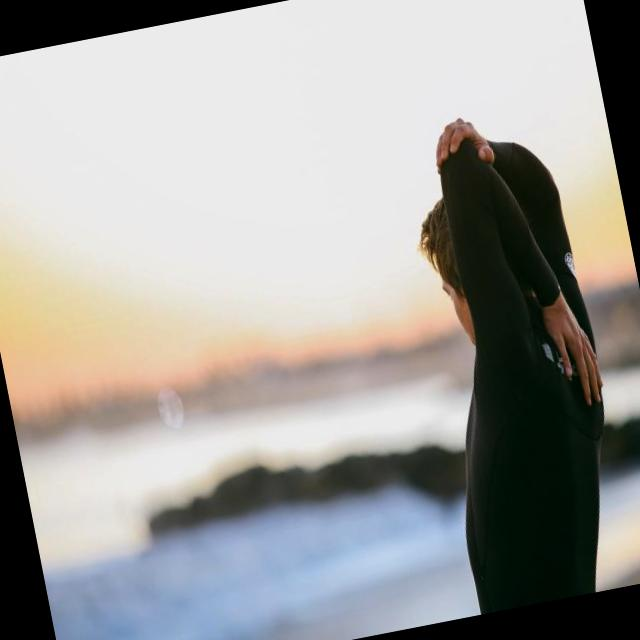person: (385, 101, 640, 614)
